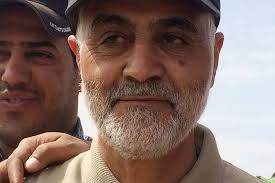middle_eastern_male: (76, 1, 224, 152)
